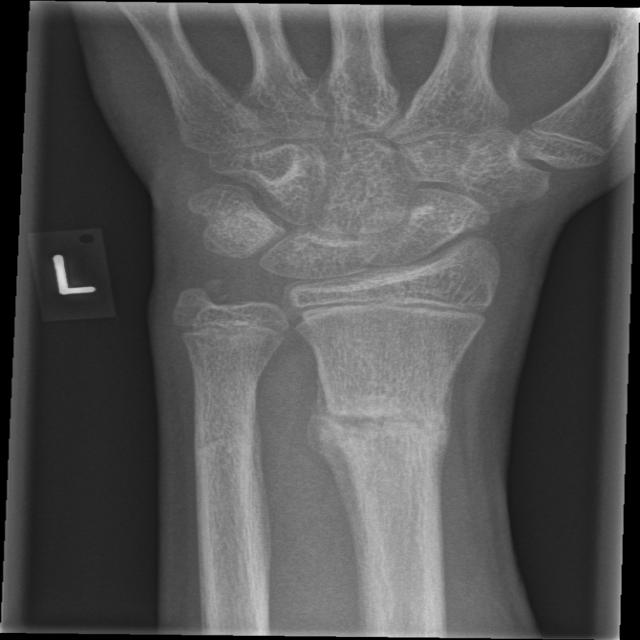radius fracture: (291, 362, 511, 530)
ulna fracture: (166, 288, 282, 484)
